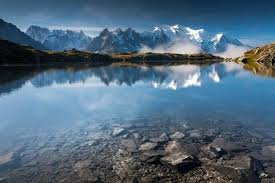lake: (6, 67, 275, 131)
mountain: (2, 24, 274, 66)
sky: (1, 1, 274, 25)
stone: (91, 117, 275, 182)
